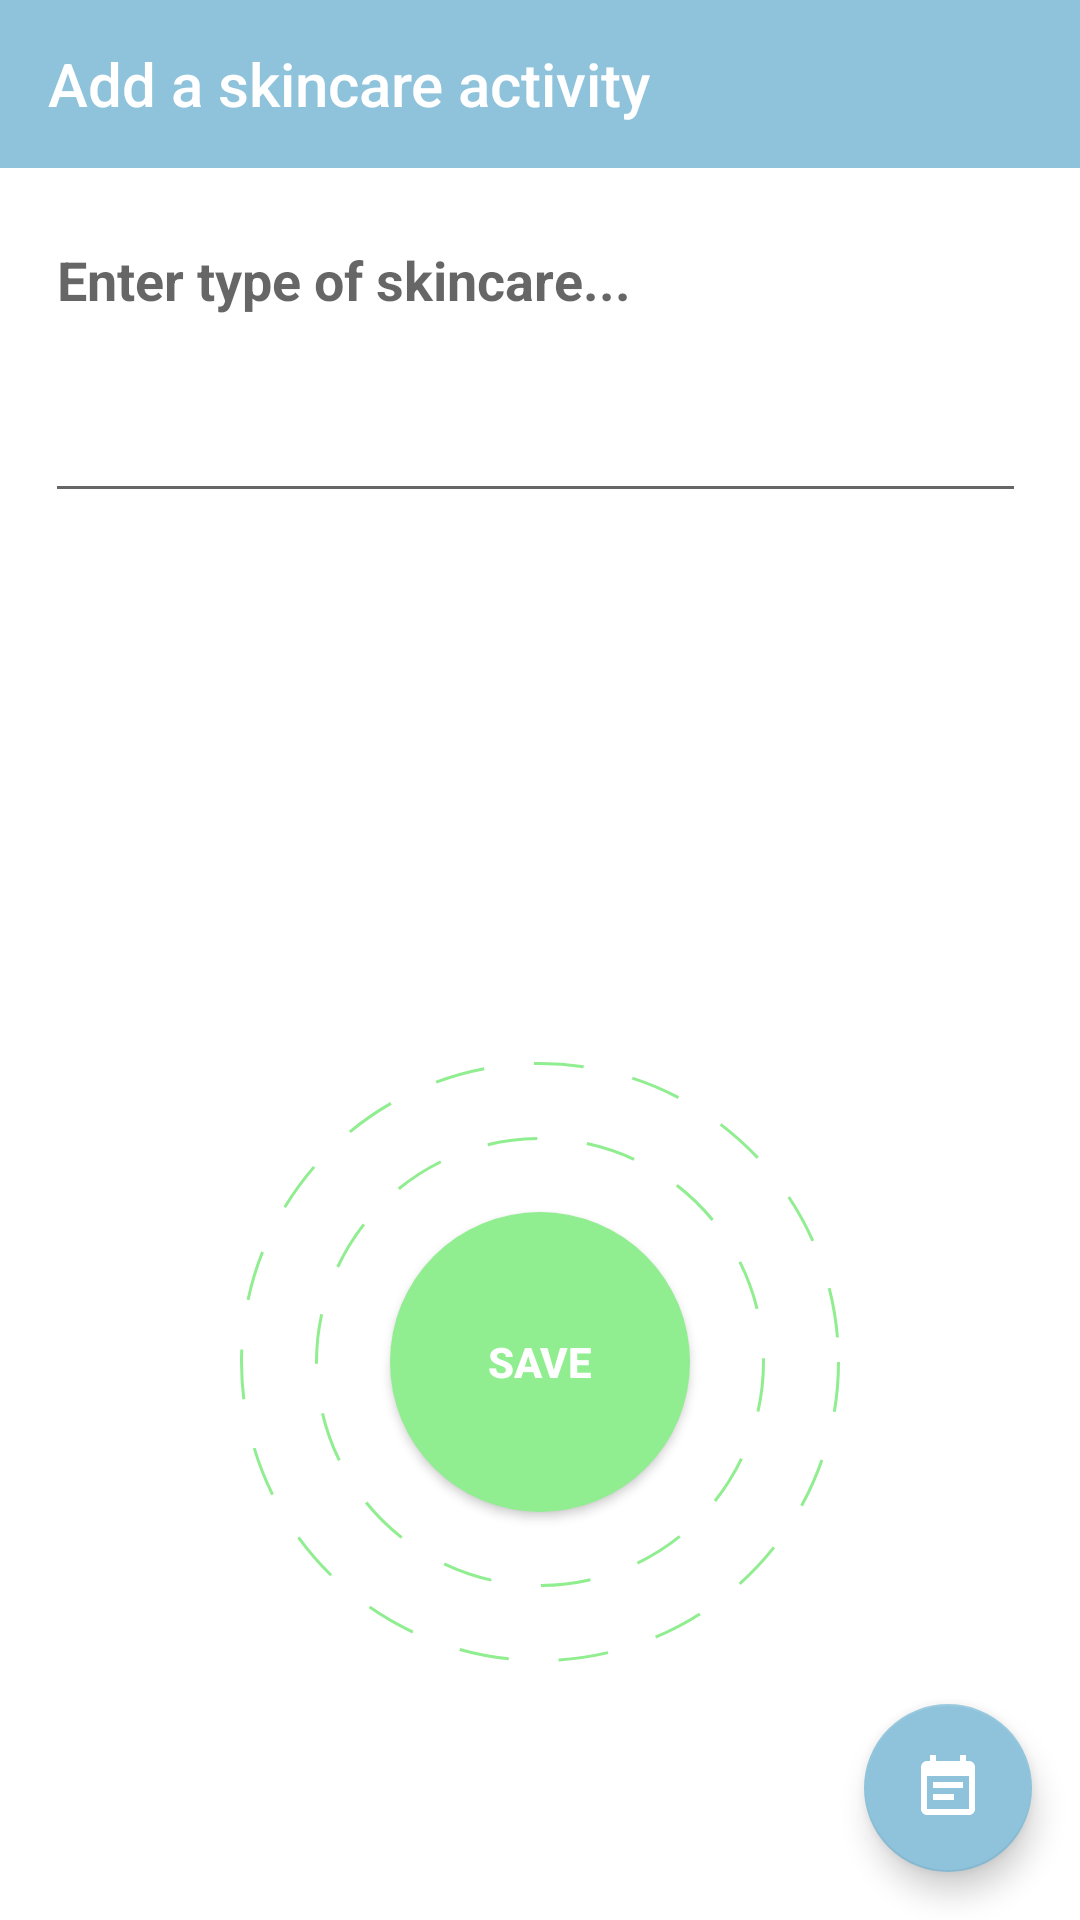

Locate icon controls on the screen. Image size 1080px x 1920px, boxes as (x1, y1, x2, y2).
Event List: (864, 1704, 1032, 1872)
